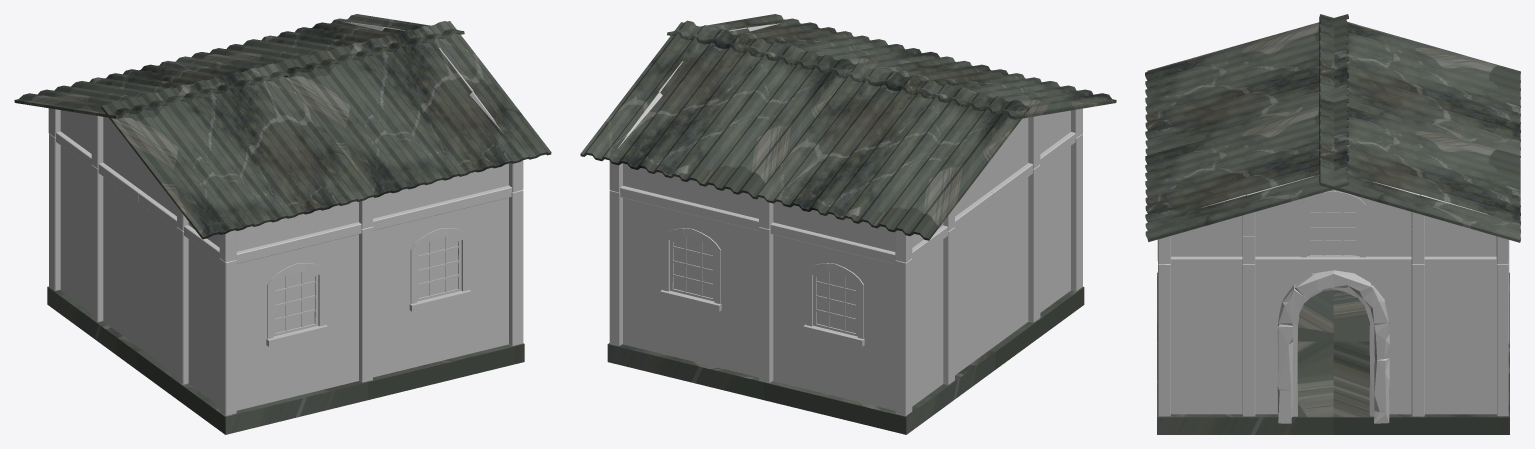
File: House3.fbx
3 renders of one model, left to right at view 1: azimuth 30°, elevation 25°; view 2: azimuth 150°, elevation 25°; view 3: azimuth 270°, elevation 25°, orthographic.
Visible parts, largest first — view 1: House3_LOD0; view 2: House3_LOD0; view 3: House3_LOD0.
Boxes of the visible parts, box(x1,y1,x2,y2) form: House3_LOD0: box(14, 14, 551, 434); House3_LOD0: box(580, 14, 1116, 434); House3_LOD0: box(1145, 14, 1520, 434).
Size of what is drawn, in the model's own units: 551 by 405 by 519.
